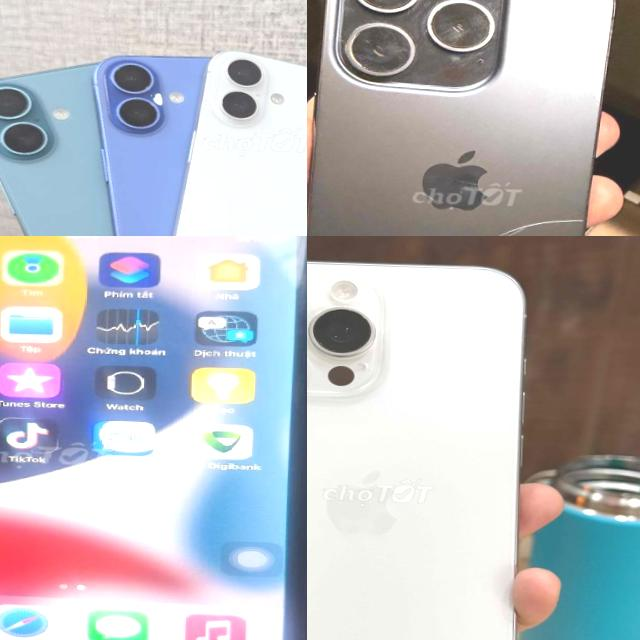gen_15: (307, 242, 550, 640), (307, 0, 613, 236)
gen_16: (142, 39, 307, 236)
gen_7_8: (0, 236, 307, 640)
